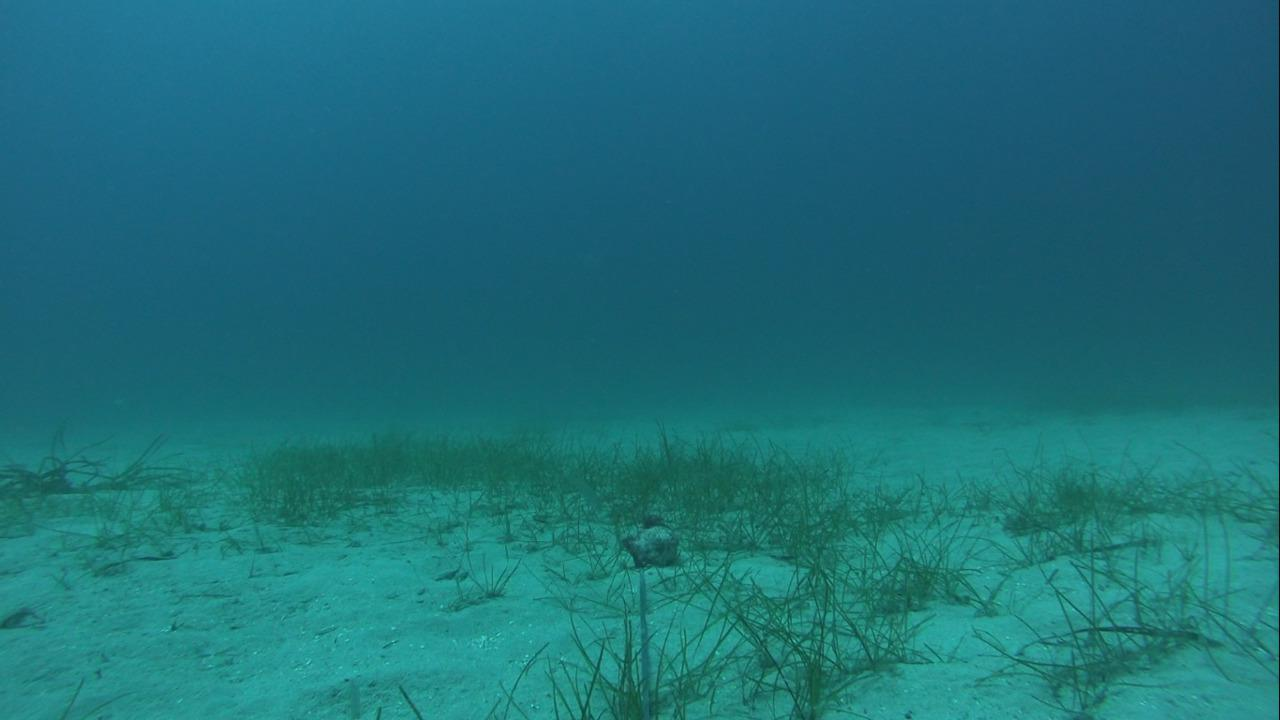raor: (550, 460, 617, 518)
